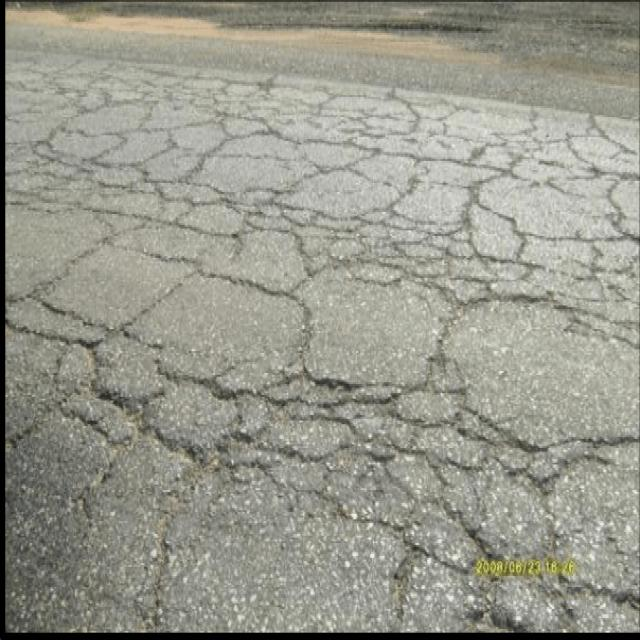Drain Hole: (144, 51, 640, 545)
